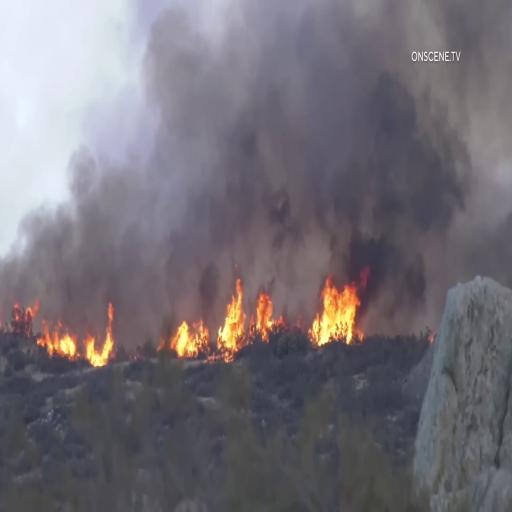fire: (166, 286, 276, 370), (306, 270, 367, 344), (82, 294, 119, 369)
smoke: (185, 79, 451, 268)
